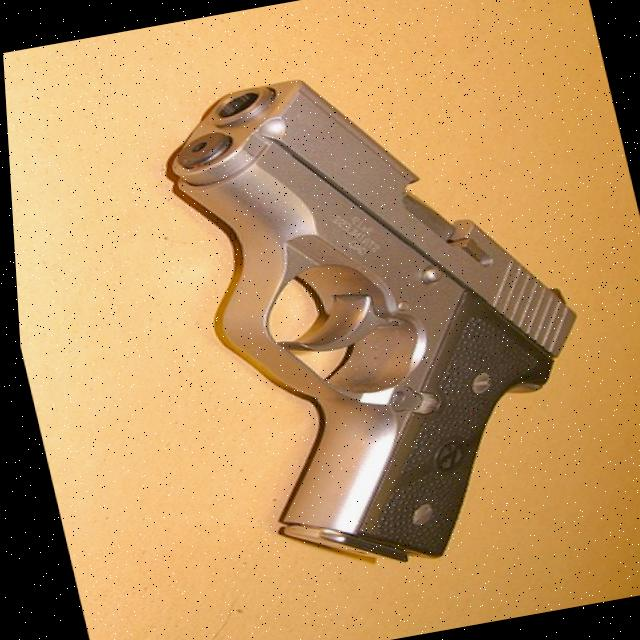pistol: (145, 38, 625, 588)
